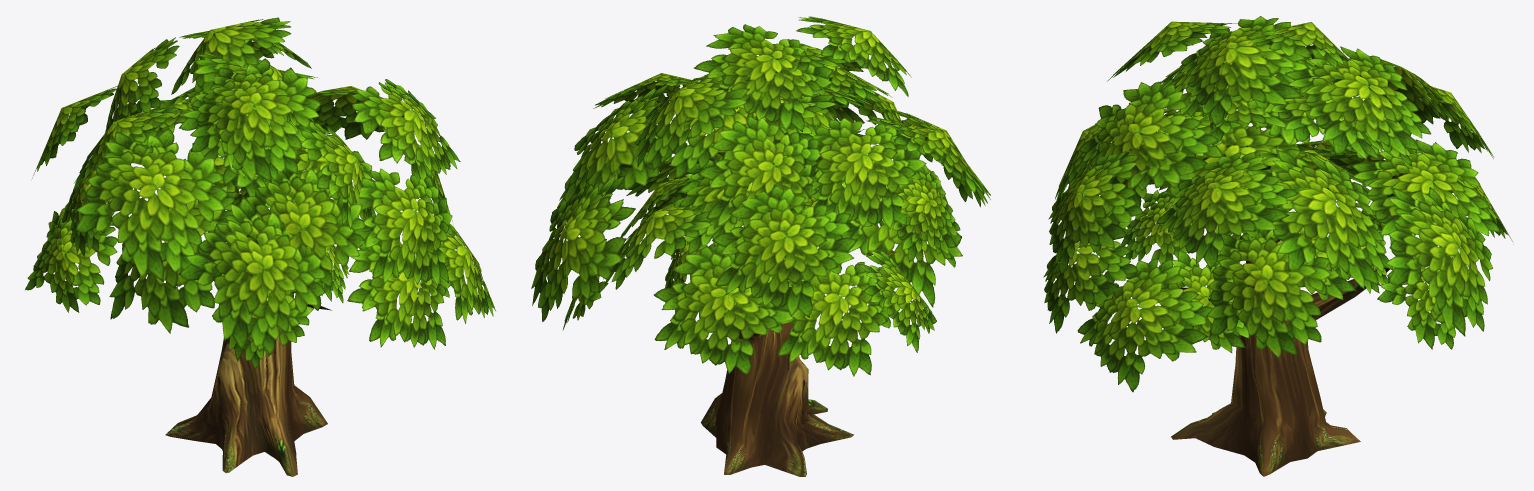
File: shu03.FBX
3 views of the same model, side by side, from view 1: azimuth 30°, elevation 25°; view 2: azimuth 150°, elevation 25°; view 3: azimuth 270°, elevation 25° (orthographic). The views are drawn at different scales.
Visible parts, largest first — view 1: shu03; view 2: shu03; view 3: shu03.
Part boxes in pixels (x1=…): shu03: x1=25, y1=17, x2=495, y2=476; shu03: x1=531, y1=16, x2=990, y2=476; shu03: x1=1043, y1=16, x2=1512, y2=476.
Bounding box in the file's own units: 258 × 251 × 267.
